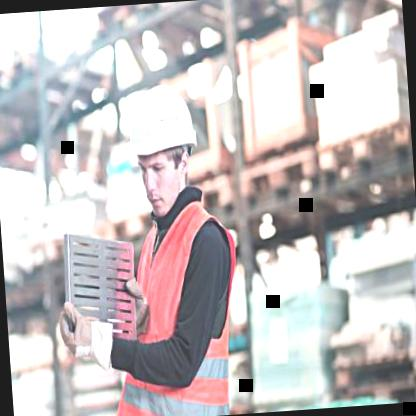helmet: (118, 70, 209, 221)
